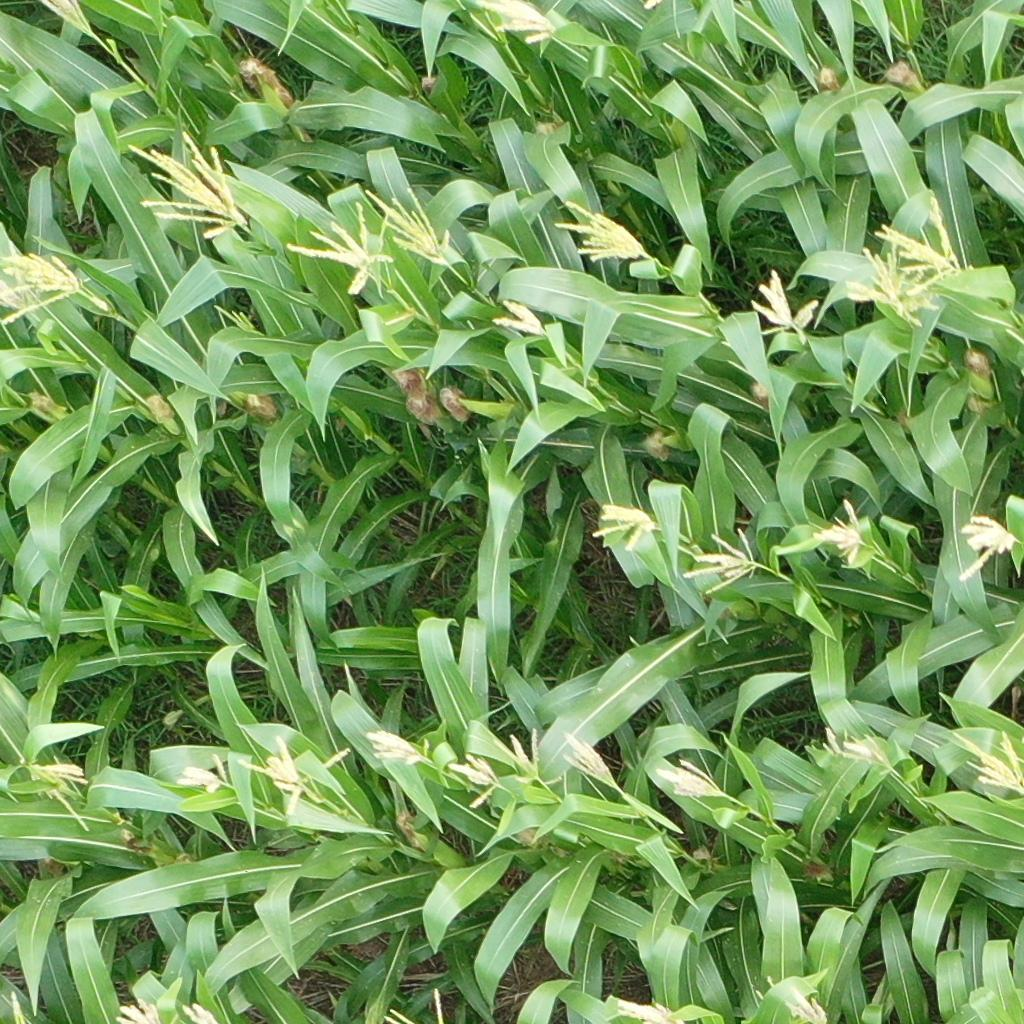Tassel: (122, 130, 252, 243), (287, 196, 399, 299), (236, 735, 356, 816), (873, 194, 968, 295), (1, 252, 109, 328), (842, 244, 938, 326), (362, 186, 453, 263), (551, 199, 652, 263), (22, 755, 97, 832), (747, 270, 820, 349), (681, 528, 764, 594), (950, 507, 1020, 582), (951, 728, 1024, 796), (474, 1, 558, 45), (811, 499, 869, 562), (445, 753, 507, 811), (653, 754, 729, 801), (562, 731, 622, 790), (588, 502, 661, 550), (507, 727, 562, 787), (1, 242, 42, 321), (363, 726, 434, 768), (491, 298, 556, 340), (381, 985, 448, 1024), (176, 755, 239, 796), (778, 983, 828, 1023), (38, 1, 96, 34), (615, 995, 678, 1024), (843, 731, 893, 767), (211, 304, 258, 332), (114, 997, 161, 1024), (821, 725, 850, 757), (182, 1001, 219, 1024), (8, 990, 27, 1024)
